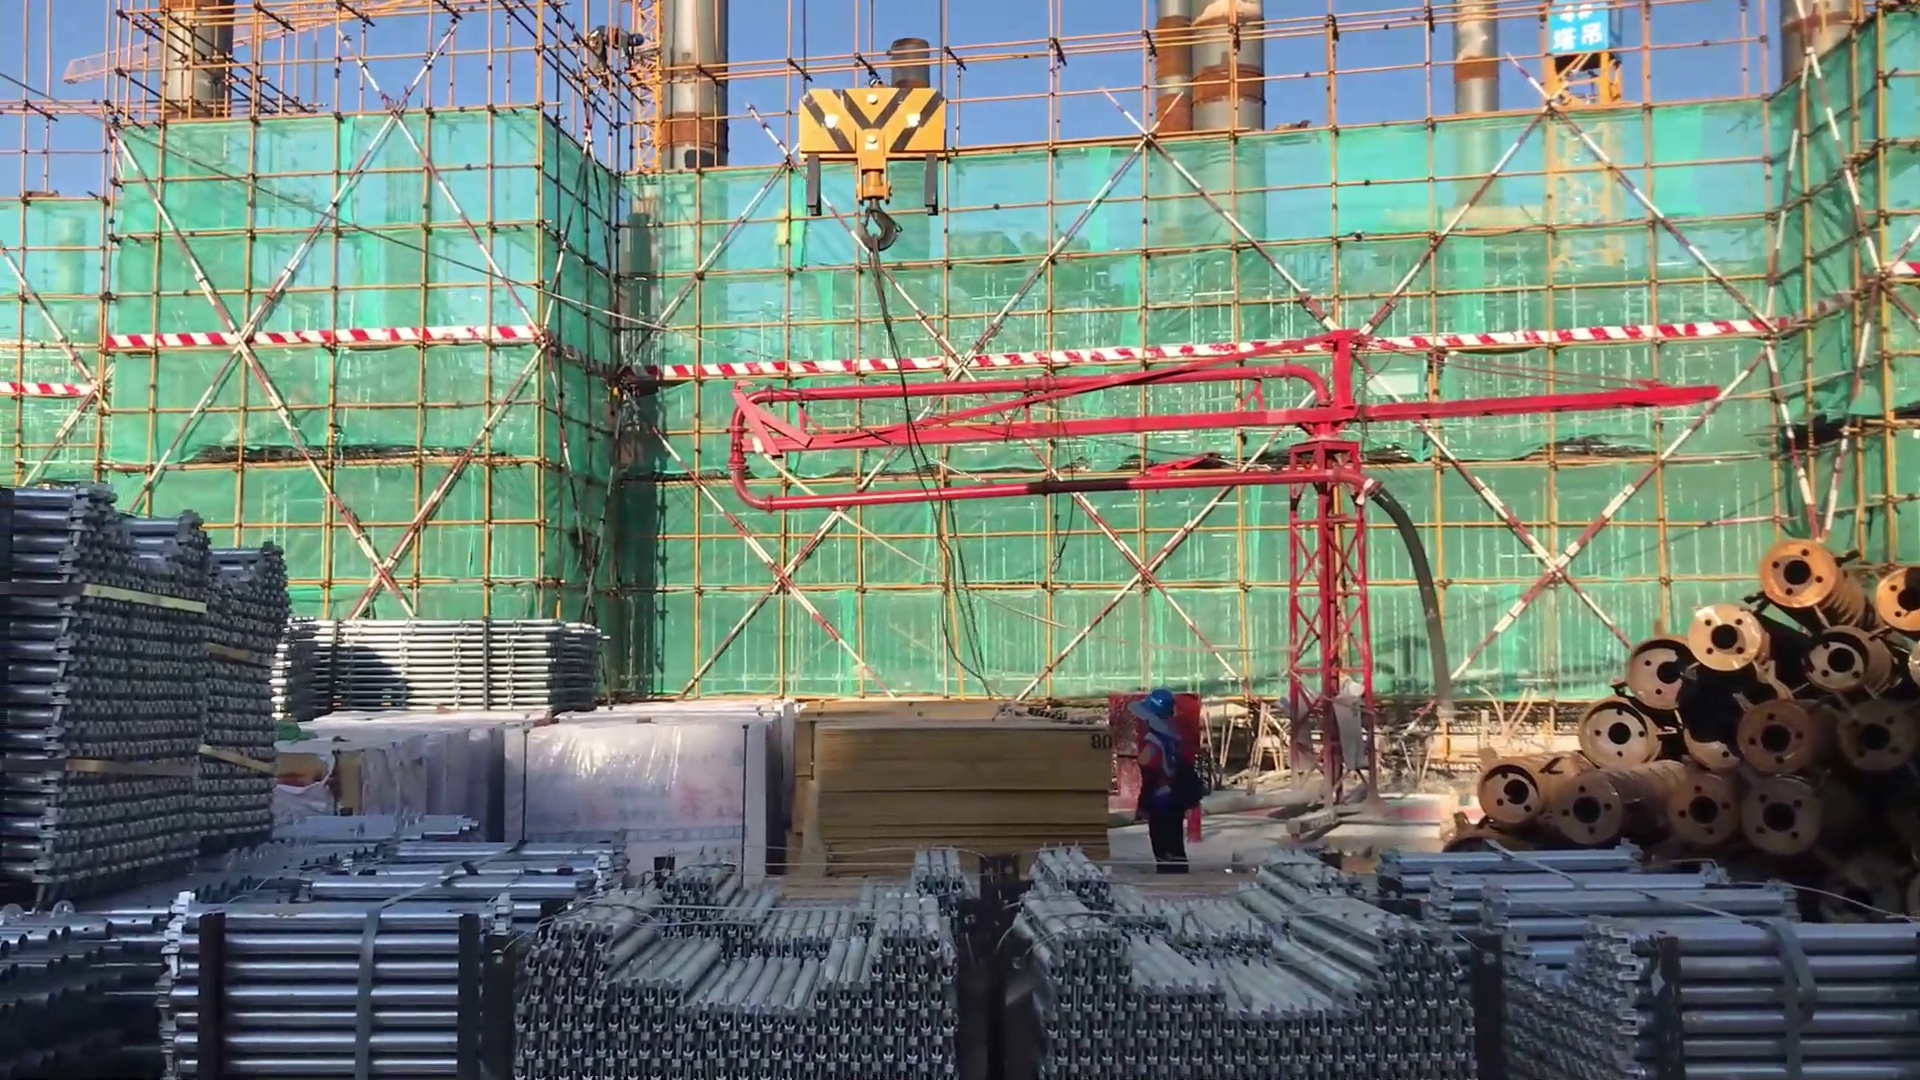board: (788, 712, 1119, 890)
helmet: (1138, 686, 1183, 724)
hook: (784, 70, 962, 264)
person: (1123, 686, 1201, 885)
scaffold: (1, 806, 637, 1080), (1370, 828, 1914, 1080), (1, 496, 301, 885), (1002, 844, 1484, 1080), (509, 835, 957, 1080), (276, 617, 625, 721)
slogan: (1552, 1, 1621, 70)
vest: (1136, 732, 1195, 823)
